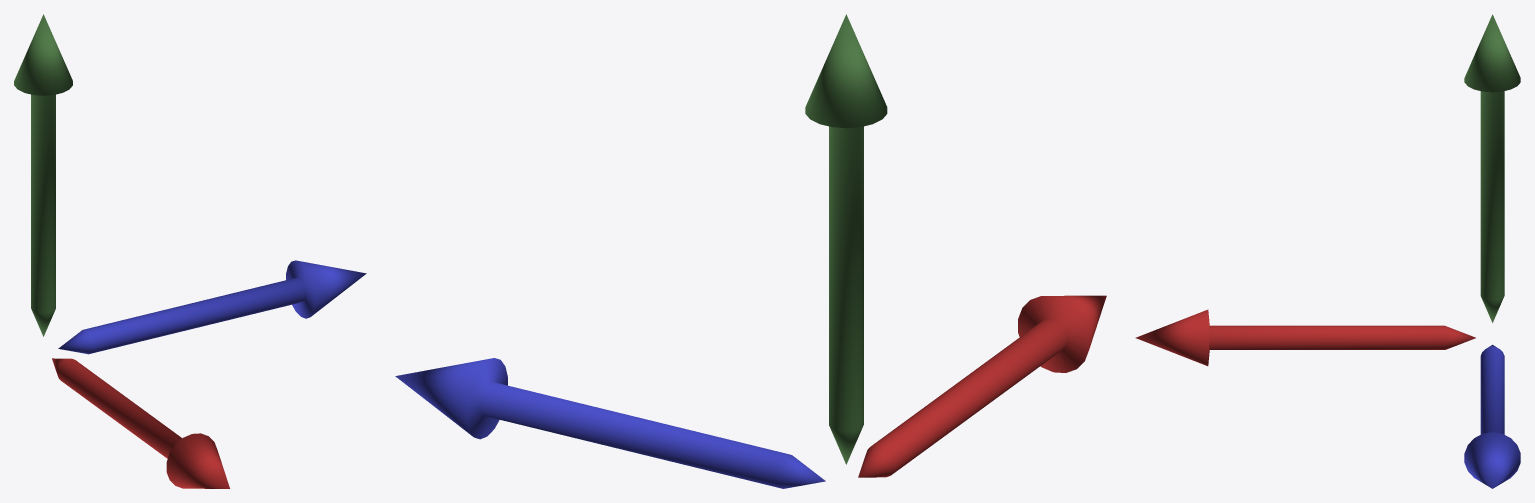
File: pivot_indicator.FBX
3 views of the same model, side by side, from view 1: azimuth 30°, elevation 25°; view 2: azimuth 150°, elevation 25°; view 3: azimuth 270°, elevation 25° (orthographic). The views are drawn at different scales.
Parts seen in each view (by area): view 1: Cylinder003; view 2: Cylinder003; view 3: Cylinder003.
Boxes of the visible parts, x1,y1,x2,y2 form: Cylinder003: (14,14,366,488); Cylinder003: (395,14,1106,488); Cylinder003: (1135,14,1520,488).
Bounding box in the file's own units: 112 × 112 × 112.
